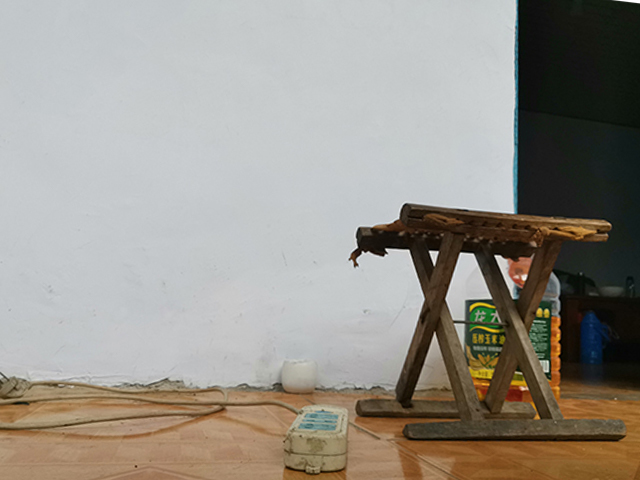stool: (346, 201, 628, 442)
table: (558, 291, 640, 367)
wire: (1, 371, 302, 433)
